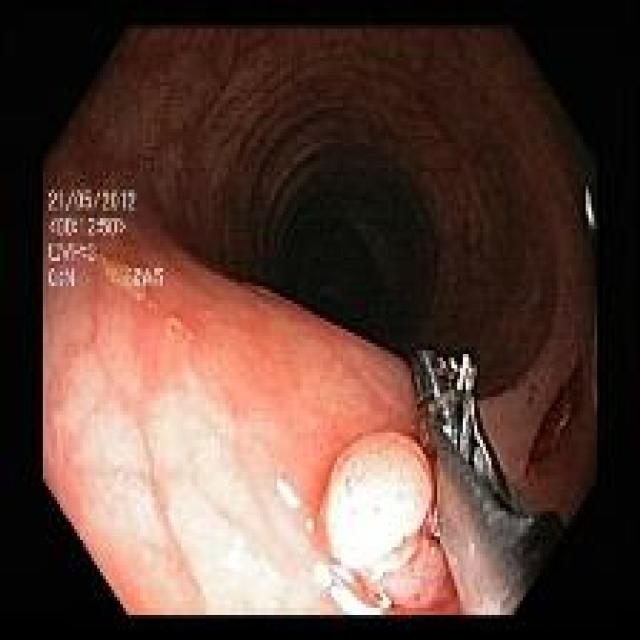Polyps: (322, 432, 432, 569)
